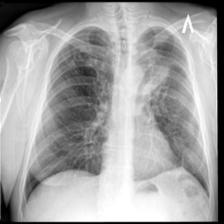tuberculosis: (18, 24, 212, 208)
